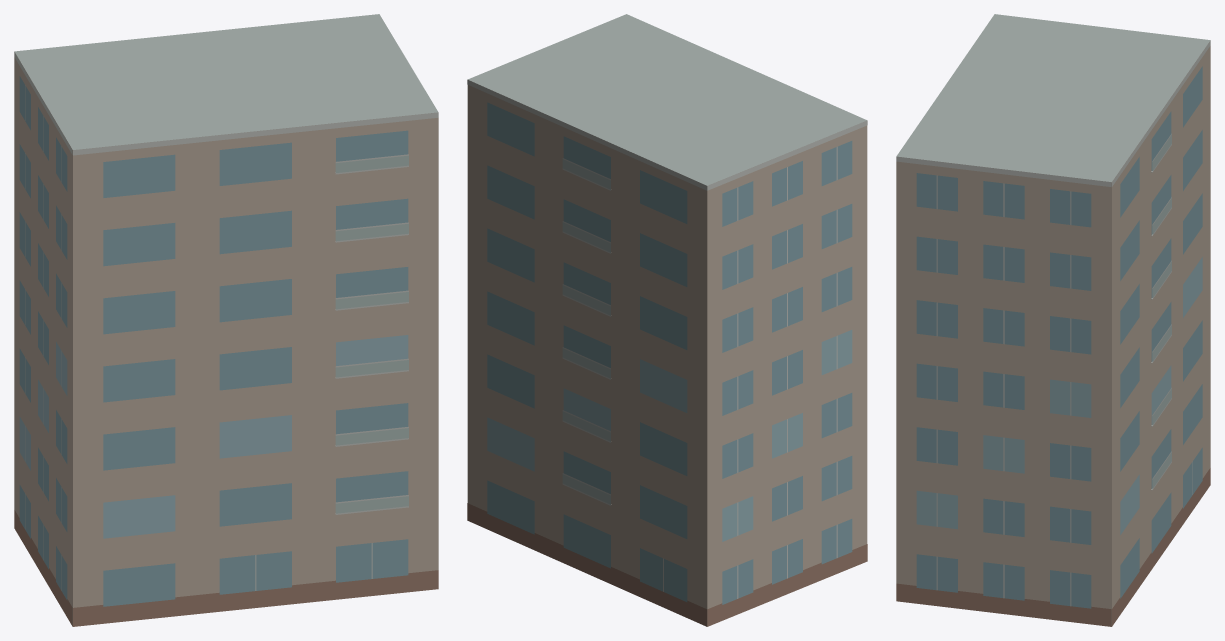
File: survey-upis-32875356.glb
The picture shows the model from 3 angles, left to right: view 1: azimuth 30°, elevation 25°; view 2: azimuth 150°, elevation 25°; view 3: azimuth 270°, elevation 25°; orthographic projection. The views are drawn at different scales.
Parts seen in each view (by area): view 1: survey-upis-32875356.tmp; view 2: survey-upis-32875356.tmp; view 3: survey-upis-32875356.tmp.
Part boxes in pixels (x1,y1,x2,y2): survey-upis-32875356.tmp: (14, 14, 438, 626); survey-upis-32875356.tmp: (467, 14, 867, 626); survey-upis-32875356.tmp: (896, 14, 1210, 626).
Bounding box in the file's own units: 17.53 × 21.6 × 13.85.
